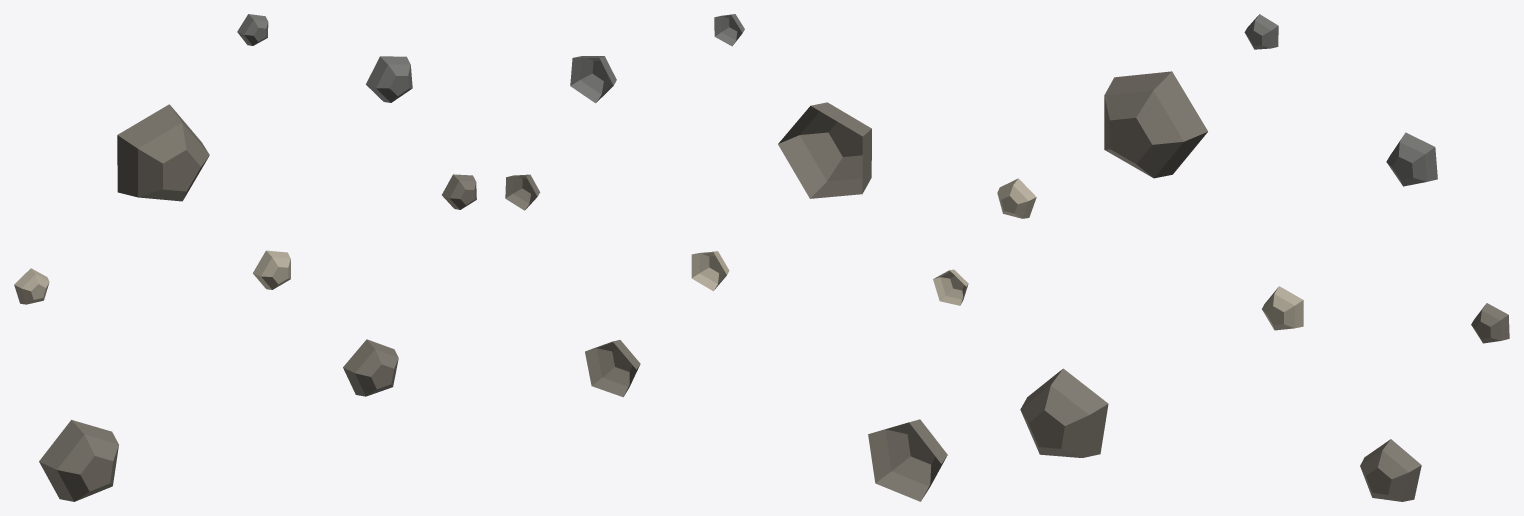
3 views of the same model, side by side, from view 1: azimuth 30°, elevation 25°; view 2: azimuth 150°, elevation 25°; view 3: azimuth 330°, elevation 25° (orthographic). The views are drawn at different scales.
Parts seen in each view (by area): view 1: prop_rocks; view 2: prop_rocks; view 3: prop_rocks.
Part boxes in pixels (left/top/right/bottom): prop_rocks: left=14, top=14, right=476, bottom=501; prop_rocks: left=505, top=14, right=968, bottom=501; prop_rocks: left=997, top=14, right=1509, bottom=501.
Size of the model in its own units: 11.8 by 10.77 by 1.1.
